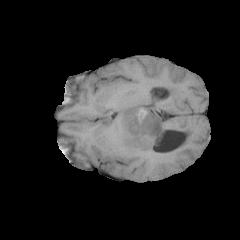glioma: (106, 104, 164, 153)
